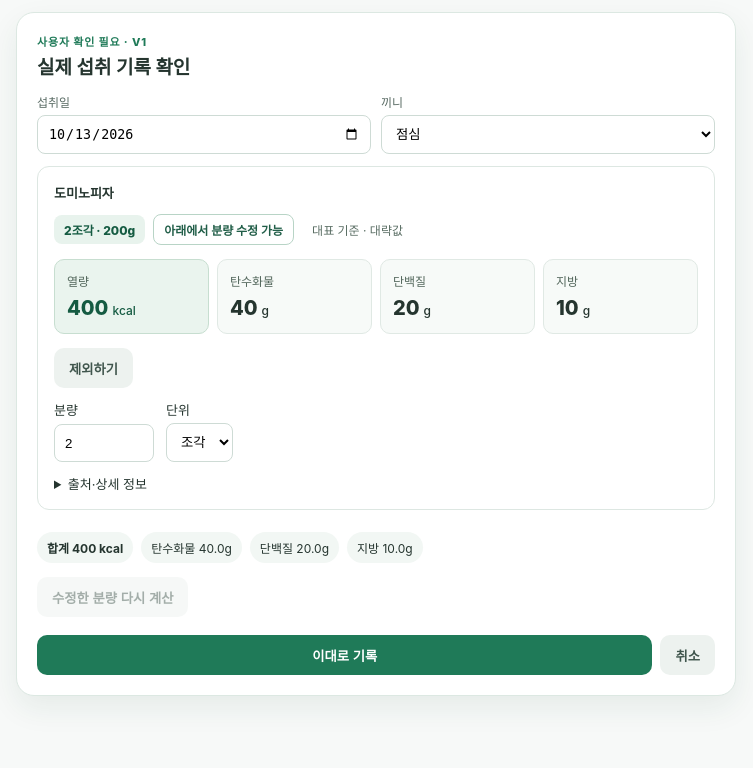
Test: approximate product basis is visible and pizza slice/whole units are editable
The width and height of the screenshot is (753, 768).
Click the heading "출처·상세 정보" at [107, 484], box [68, 476, 147, 492]
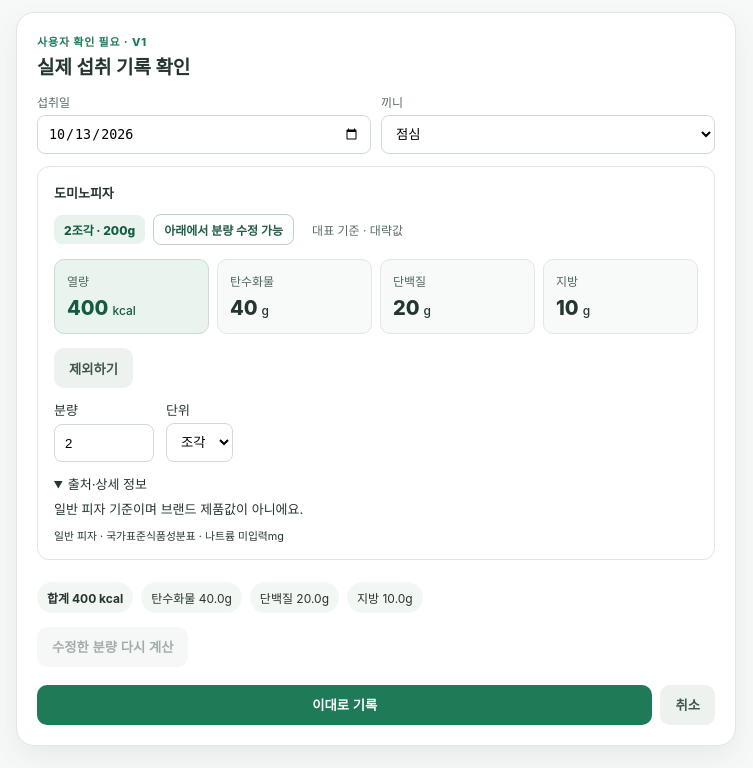
Expected: the text "일반 피자 기준이며 브랜드 제품값이 아니에요." is shown, [54, 501, 303, 517]
